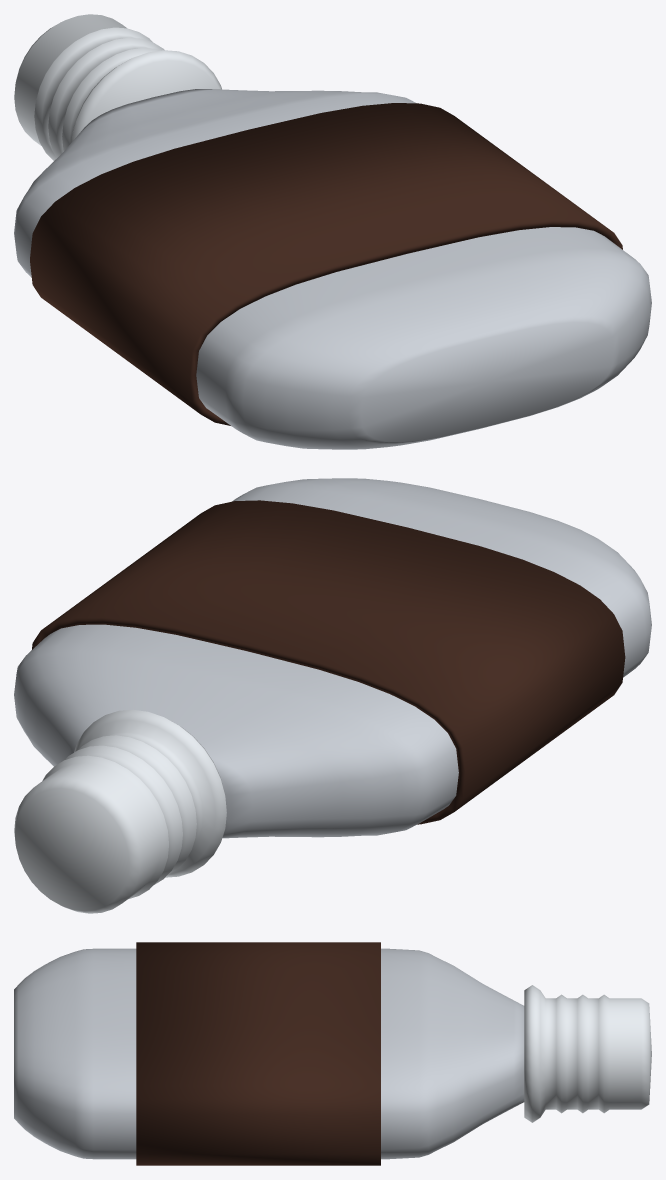
File: whiskey_flask.glb
3 renders of one model, top to bottom at view 1: azimuth 30°, elevation 25°; view 2: azimuth 150°, elevation 25°; view 3: azimuth 270°, elevation 25°, orthographic. The views are drawn at different scales.
Visible parts, largest first — view 1: Flask, Wrap, Cap; view 2: Wrap, Flask, Cap; view 3: Wrap, Flask, Cap.
Part boxes in pixels (x1,y1,x2,y2): Flask: [14, 89, 651, 449]; Wrap: [30, 103, 622, 425]; Cap: [14, 14, 221, 160]; Wrap: [32, 500, 625, 824]; Flask: [14, 478, 651, 838]; Cap: [14, 709, 226, 913]; Wrap: [136, 942, 380, 1165]; Flask: [14, 948, 524, 1159]; Cap: [524, 985, 651, 1122].
Bounding box in the file's own units: 0.0724 × 0.026 × 0.12.
